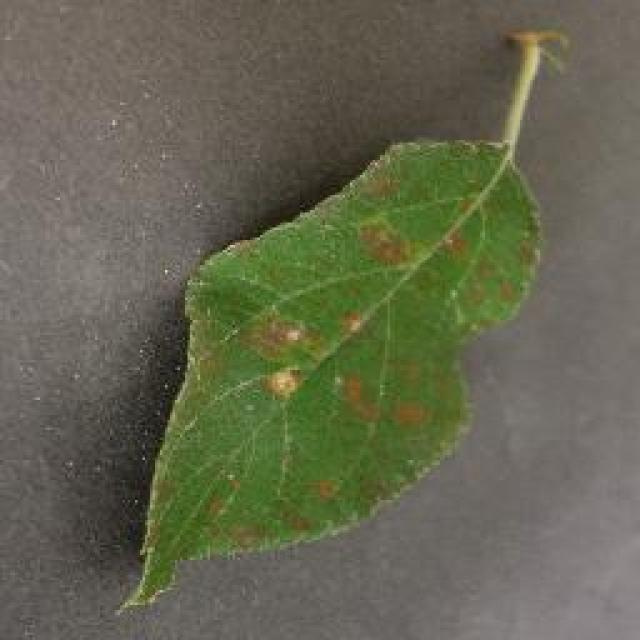apple cedar apple rust: (115, 25, 567, 613)
